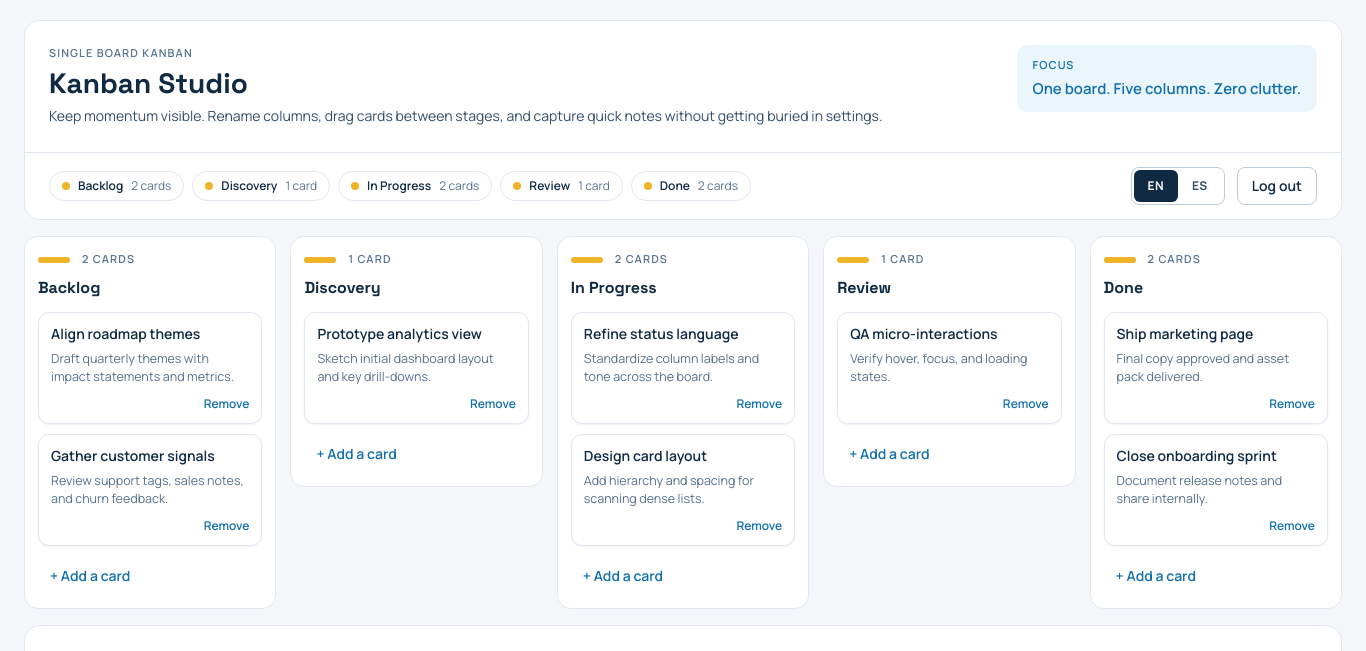
Test: KanbanBoard › edits a card title with a double click
Double-click the heading "Align roadmap themes": point(126, 333) [51,324,200,343]
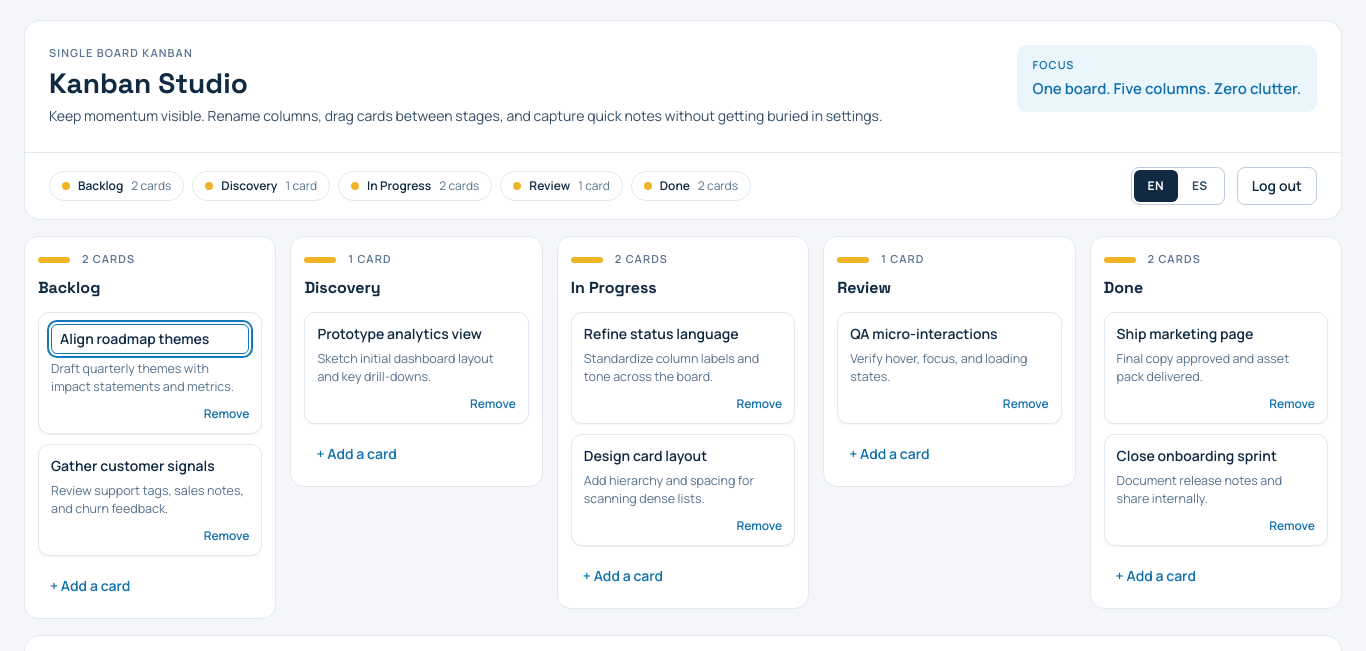
Replace the text in the field named "Edit card title" with "Renamed by double click": point(150, 339) [51,324,249,354]
Then press Enter
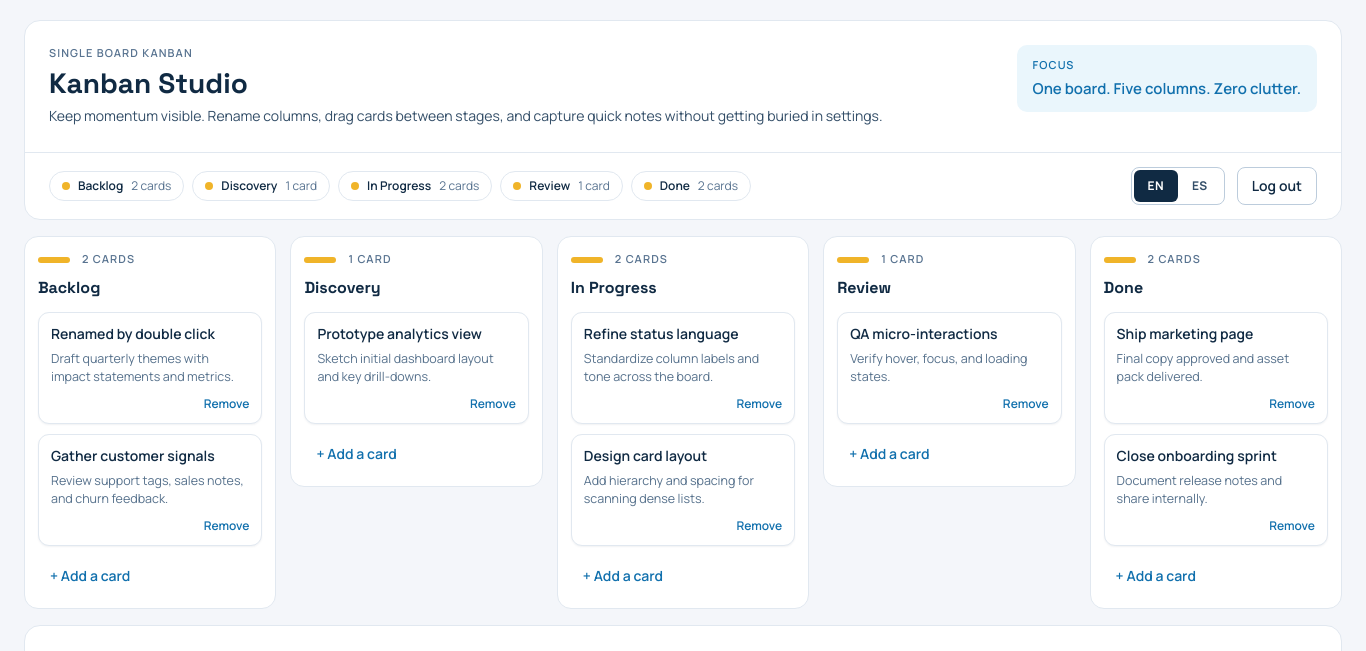
Now the heading "Renamed by double click" is shown, box [51,324,215,343]
